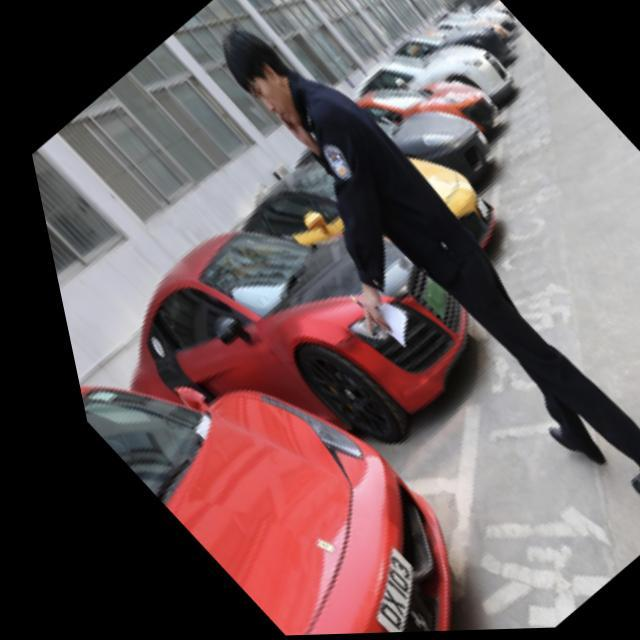license_plate: (300, 536, 425, 636)
